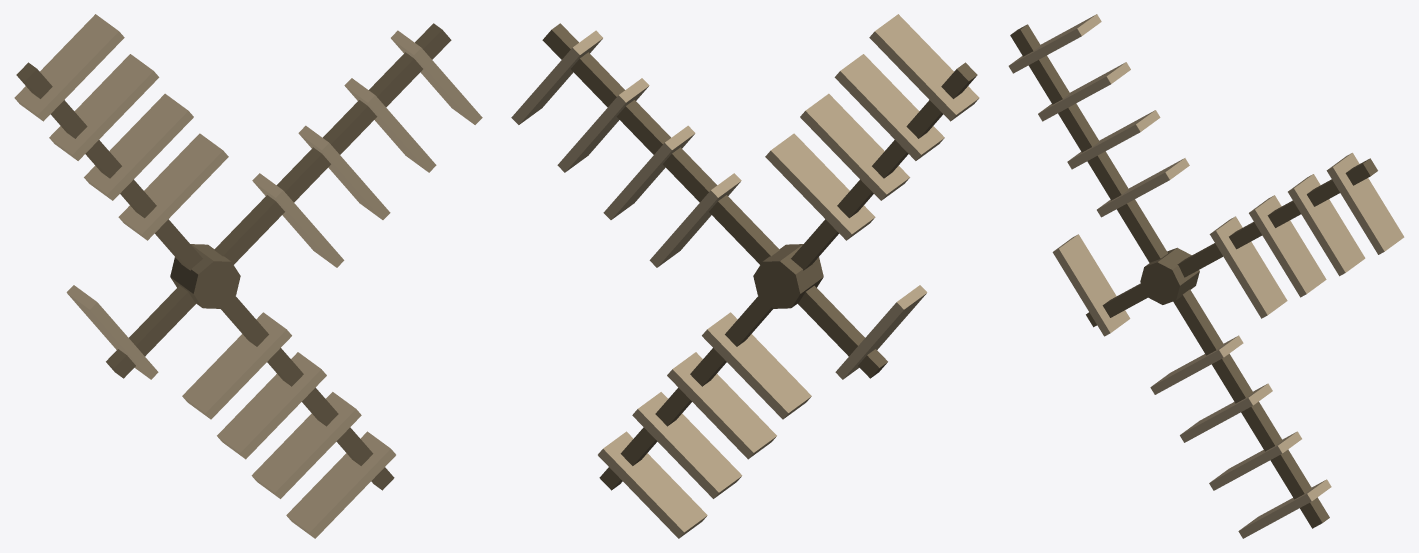
File: qc_windmill_rotor.obj
The picture shows the model from 3 angles, left to right: view 1: azimuth 30°, elevation 25°; view 2: azimuth 150°, elevation 25°; view 3: azimuth 330°, elevation 25°; orthographic projection. The views are drawn at different scales.
Parts seen in each view (by area): view 1: qc_windmill_rotor; view 2: qc_windmill_rotor; view 3: qc_windmill_rotor.
Part boxes in pixels (x1,y1,x2,y2): qc_windmill_rotor: [14, 14, 482, 538]; qc_windmill_rotor: [511, 14, 979, 538]; qc_windmill_rotor: [1008, 14, 1404, 538].
Bounding box in the file's own units: 2.65 × 3.13 × 0.24.
